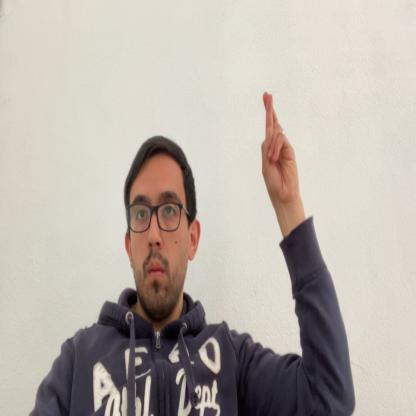R: (261, 91, 299, 202)
